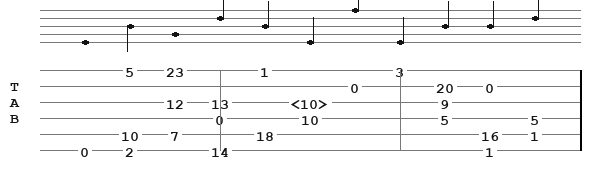0: (80, 144, 93, 157), (215, 112, 228, 125), (350, 80, 363, 93), (485, 80, 498, 93)
1: (260, 64, 273, 77), (485, 144, 498, 157), (530, 128, 543, 141)
10: (121, 128, 143, 141), (301, 112, 323, 125)
12: (166, 96, 188, 109)
13: (211, 96, 233, 109)
14: (211, 144, 233, 157)
16: (481, 128, 503, 141)
18: (256, 128, 278, 141)
2: (125, 144, 138, 157)
20: (436, 80, 458, 93)
23: (166, 64, 188, 77)
3: (395, 64, 408, 77)
5: (125, 64, 138, 77), (440, 112, 453, 125), (530, 112, 543, 125)
7: (170, 128, 183, 141)
9: (440, 96, 453, 109)
harmonic: (291, 96, 333, 109)
